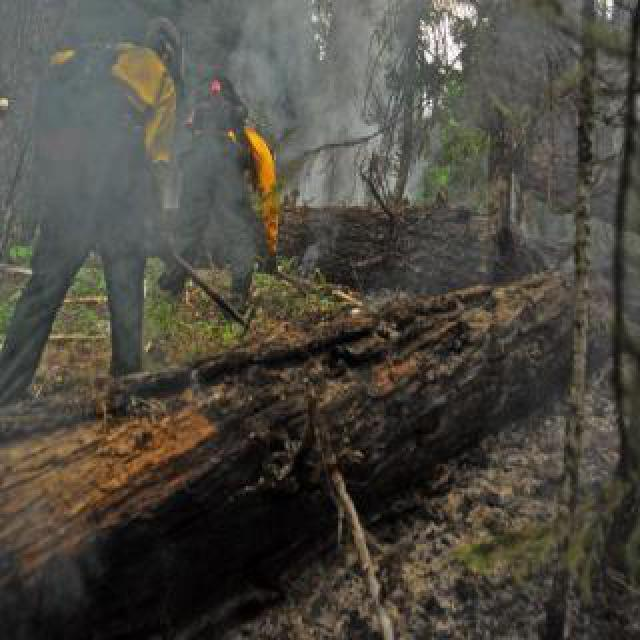Smoke: (260, 20, 416, 221)
